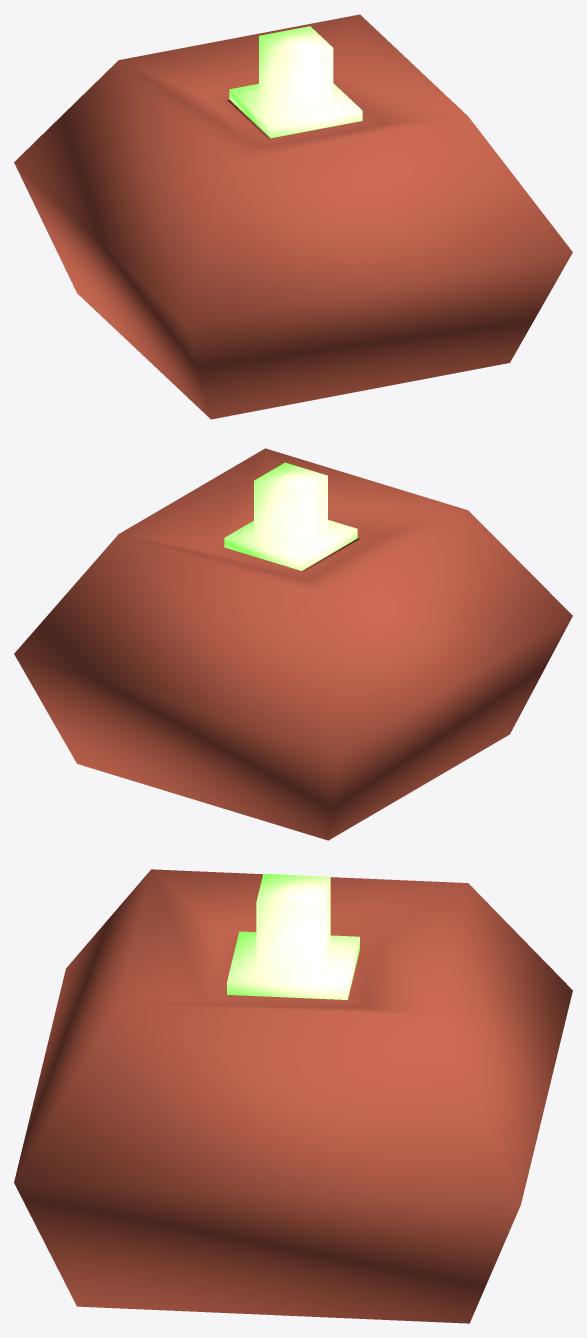
File: kim-kue.gltf
3 views of the same model, one above another, from view 1: azimuth 30°, elevation 25°; view 2: azimuth 150°, elevation 25°; view 3: azimuth 270°, elevation 25° (orthographic). The views are drawn at different scales.
Visible parts, largest first — view 1: object; view 2: object; view 3: object.
Boxes of the visible parts, x1=… form: object: x1=14, y1=14, x2=572, y2=419; object: x1=14, y1=448, x2=572, y2=840; object: x1=14, y1=869, x2=572, y2=1323.
Size of the model in its own units: 0.942 by 0.6401 by 0.942.
